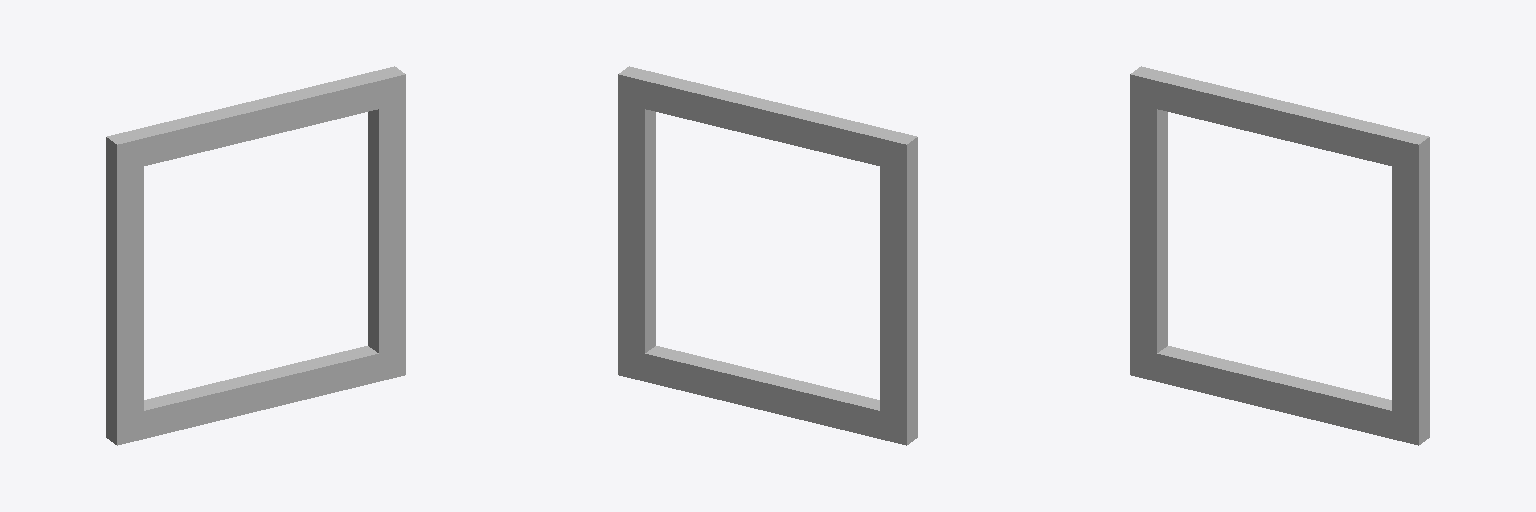
File: Frame.obj
3 views of the same model, side by side, from view 1: azimuth 30°, elevation 25°; view 2: azimuth 150°, elevation 25°; view 3: azimuth 330°, elevation 25° (orthographic).
Visible parts, largest first — view 1: 立方体; view 2: 立方体; view 3: 立方体.
Boxes of the visible parts, x1=… form: 立方体: x1=106, y1=66, x2=405, y2=445; 立方体: x1=618, y1=66, x2=917, y2=445; 立方体: x1=1130, y1=66, x2=1429, y2=445.
Size of the model in its own units: 2.69 by 2.68 by 0.1779.